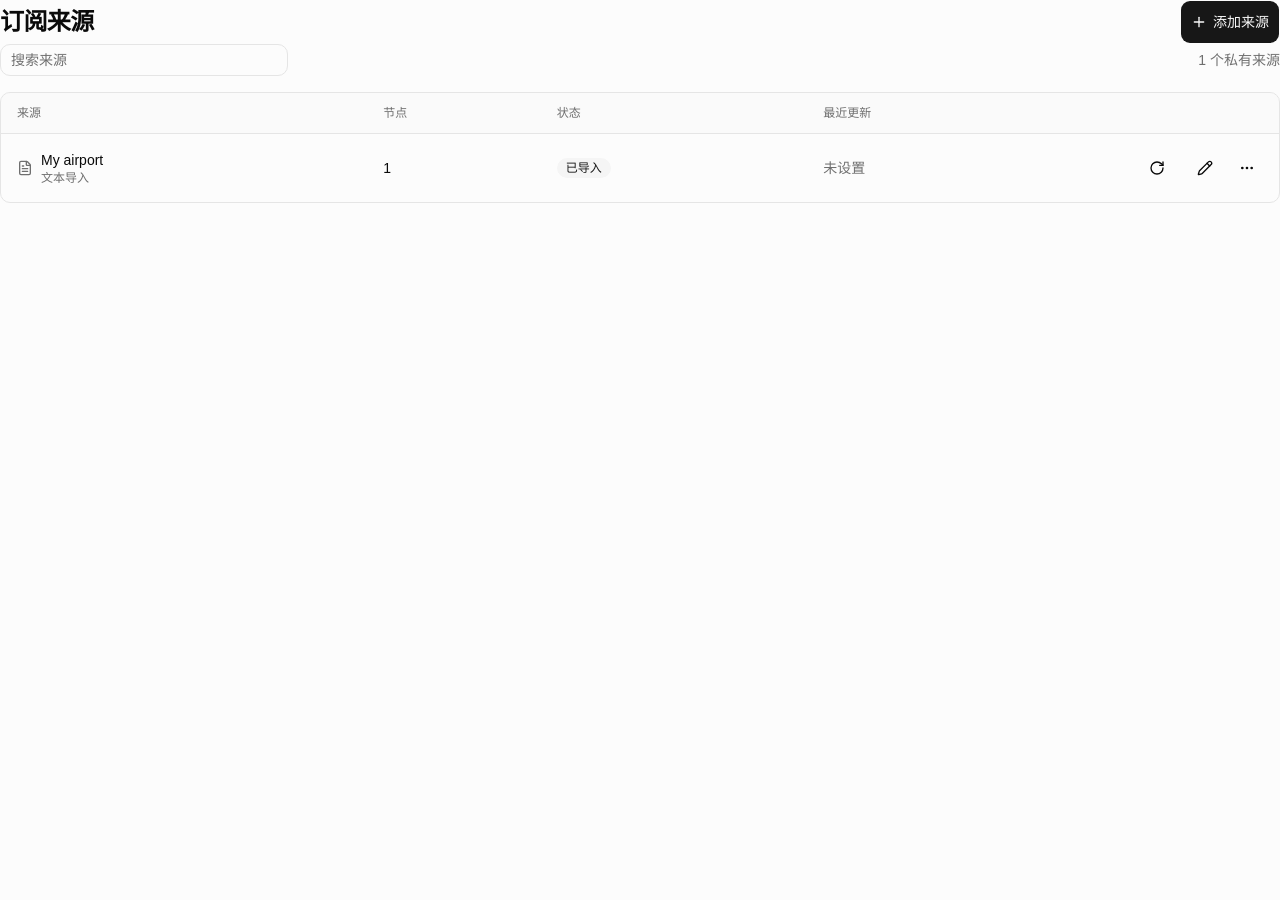
Test case: offers optional change details and applies the exact manual update without a forced completion step
Click the button named "刷新 My airport" at {"x": 1157, "y": 168}, box [1135, 146, 1179, 190]
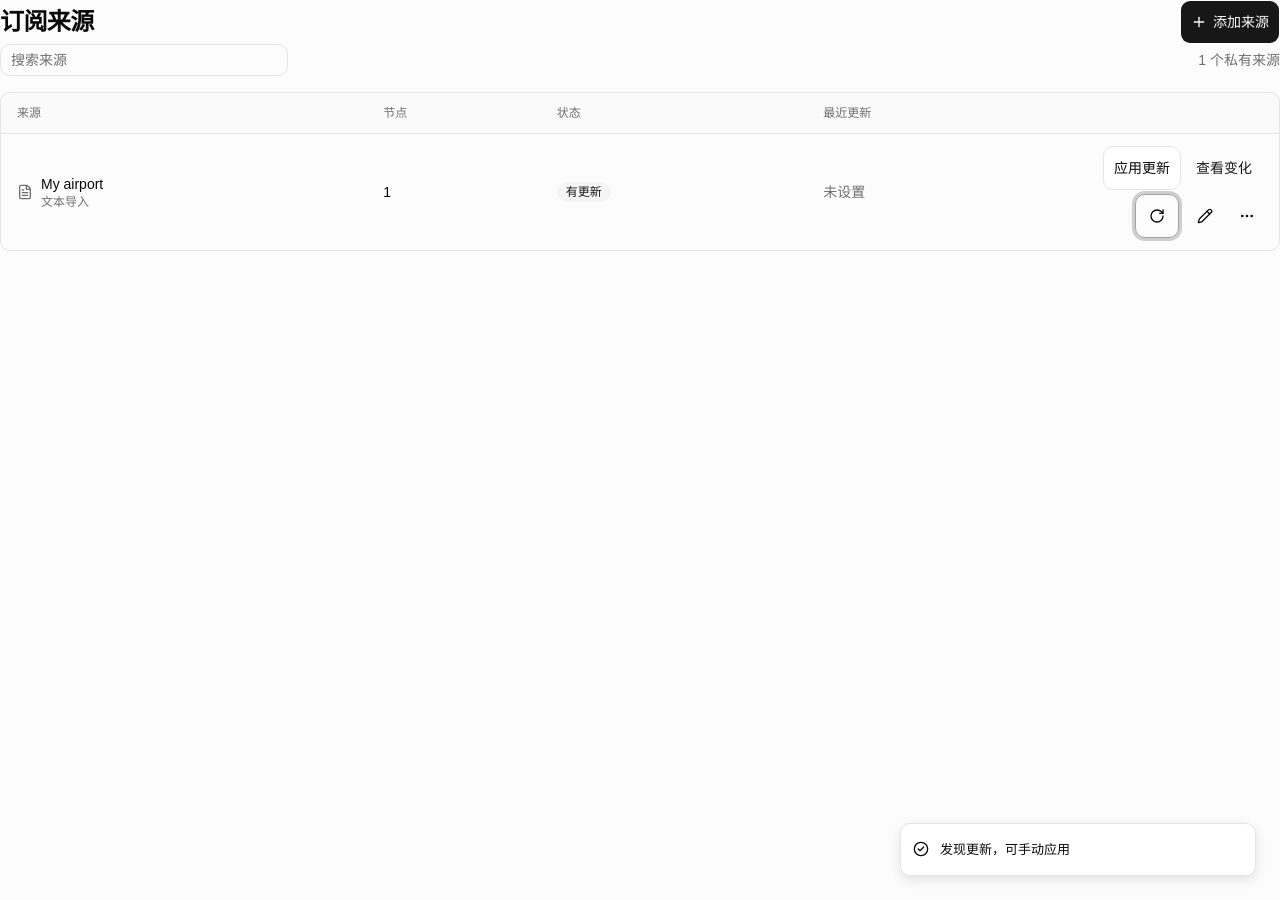
Click the button "查看变化" at {"x": 1224, "y": 168}, box [1185, 146, 1263, 190]
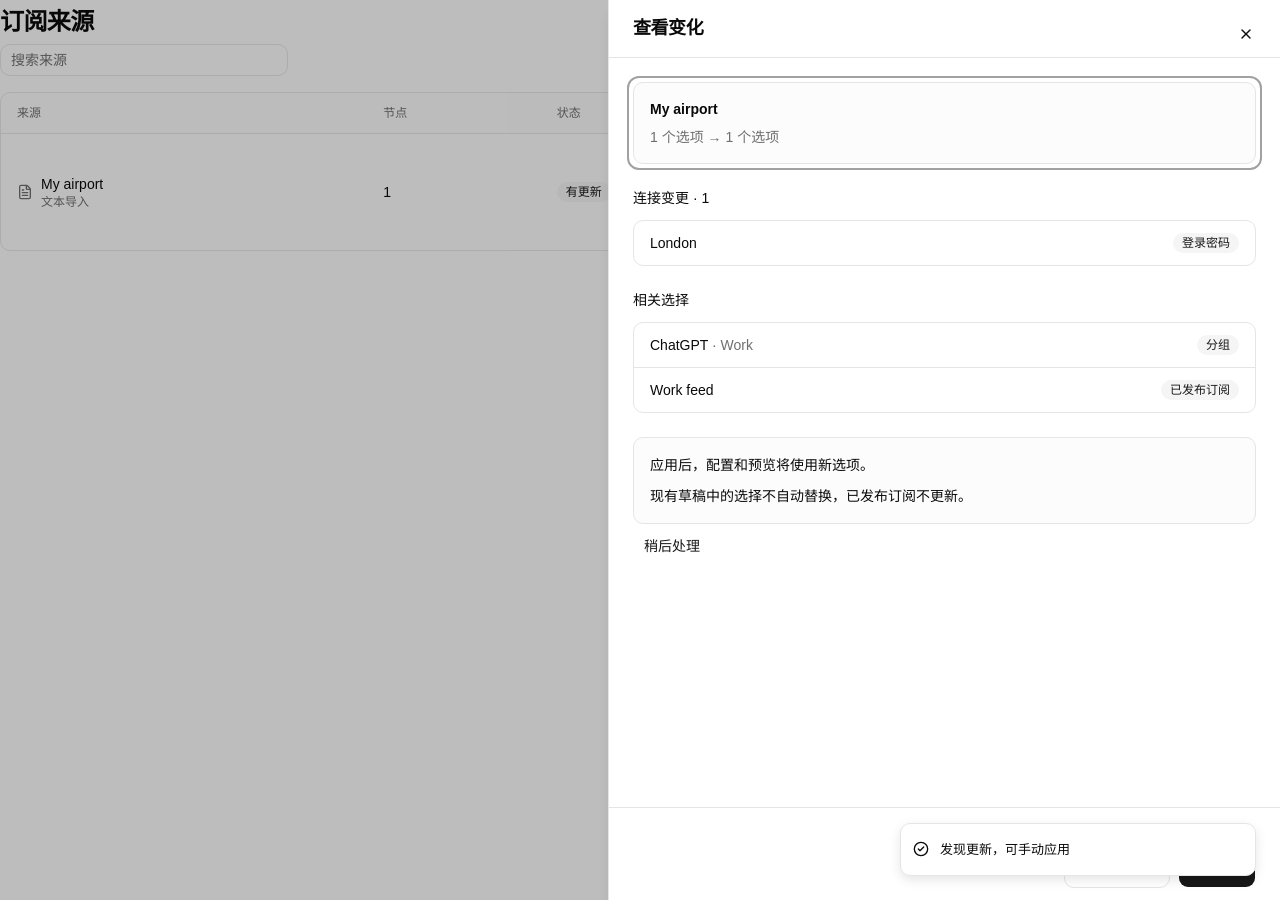
Expected: the heading "查看变化" is shown, [633, 18, 703, 38]
Expected: the heading "连接变更 · 1" is shown, [633, 190, 709, 206]
Expected: the text "登录密码" is shown, [1173, 233, 1239, 253]
Click the button "应用更新" at {"x": 1217, "y": 866}, box [1178, 844, 1256, 888]
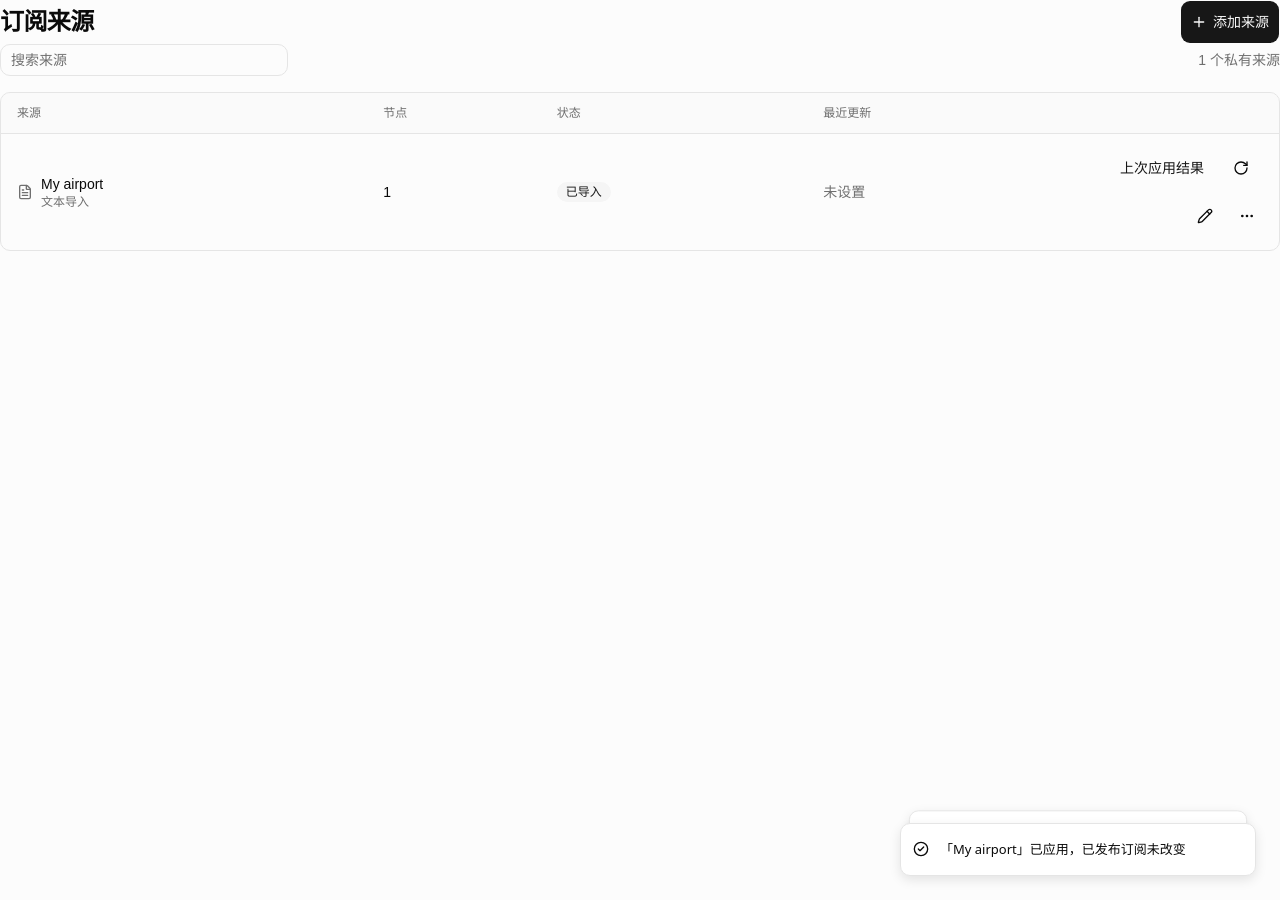
Expected: the dialog is gone
Expected: the text "「My airport」已应用，已发布订阅未改变" is shown, [940, 840, 1186, 859]
Click the button with aria-label "查看上次应用结果 My airport" at {"x": 1162, "y": 168}, box [1109, 146, 1215, 190]
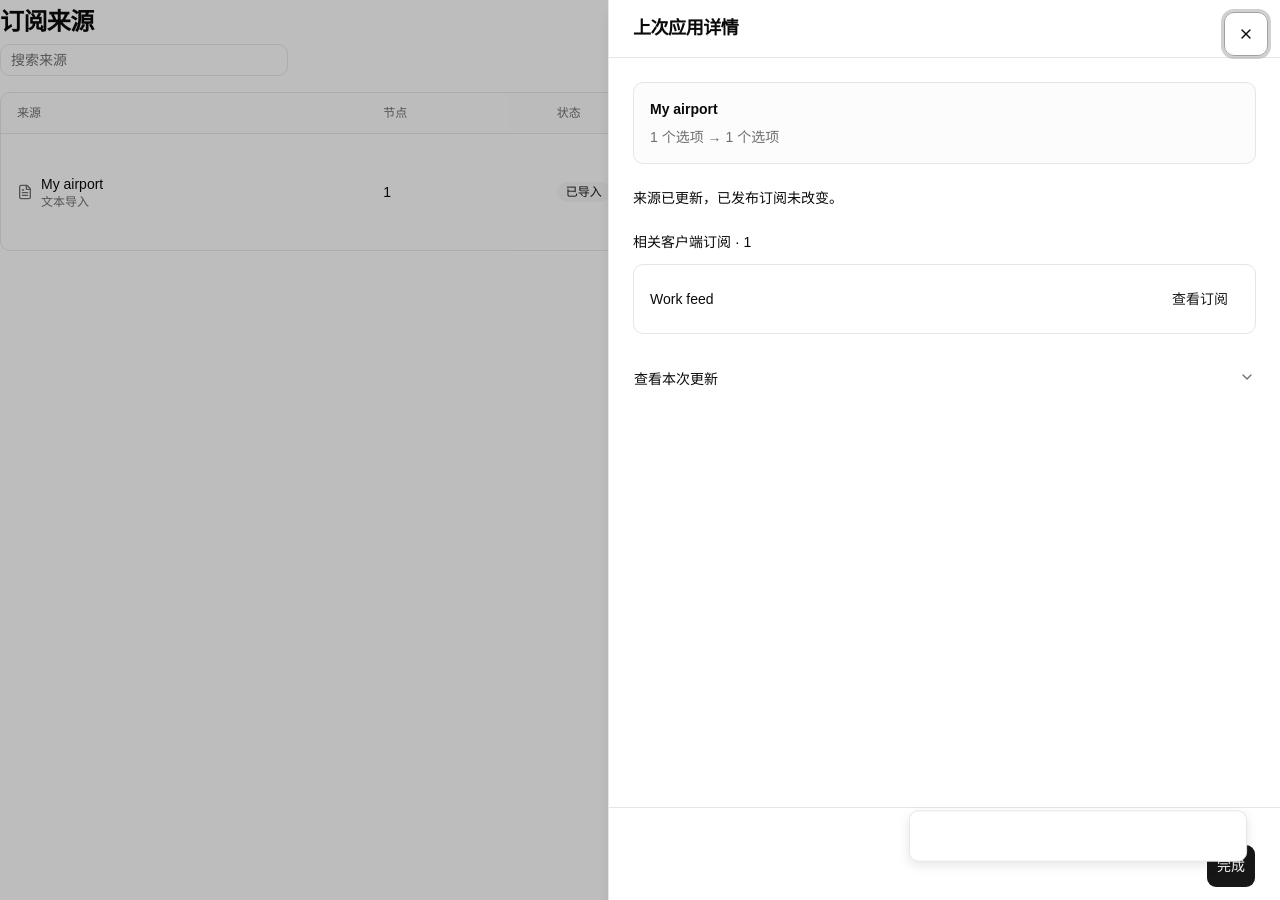
Expected: the button "应用更新" is not shown
Expected: the text "来源已更新，已发布订阅未改变。" is shown, [633, 190, 843, 206]
Click the button "完成" at {"x": 1231, "y": 866}, box [1206, 844, 1256, 888]
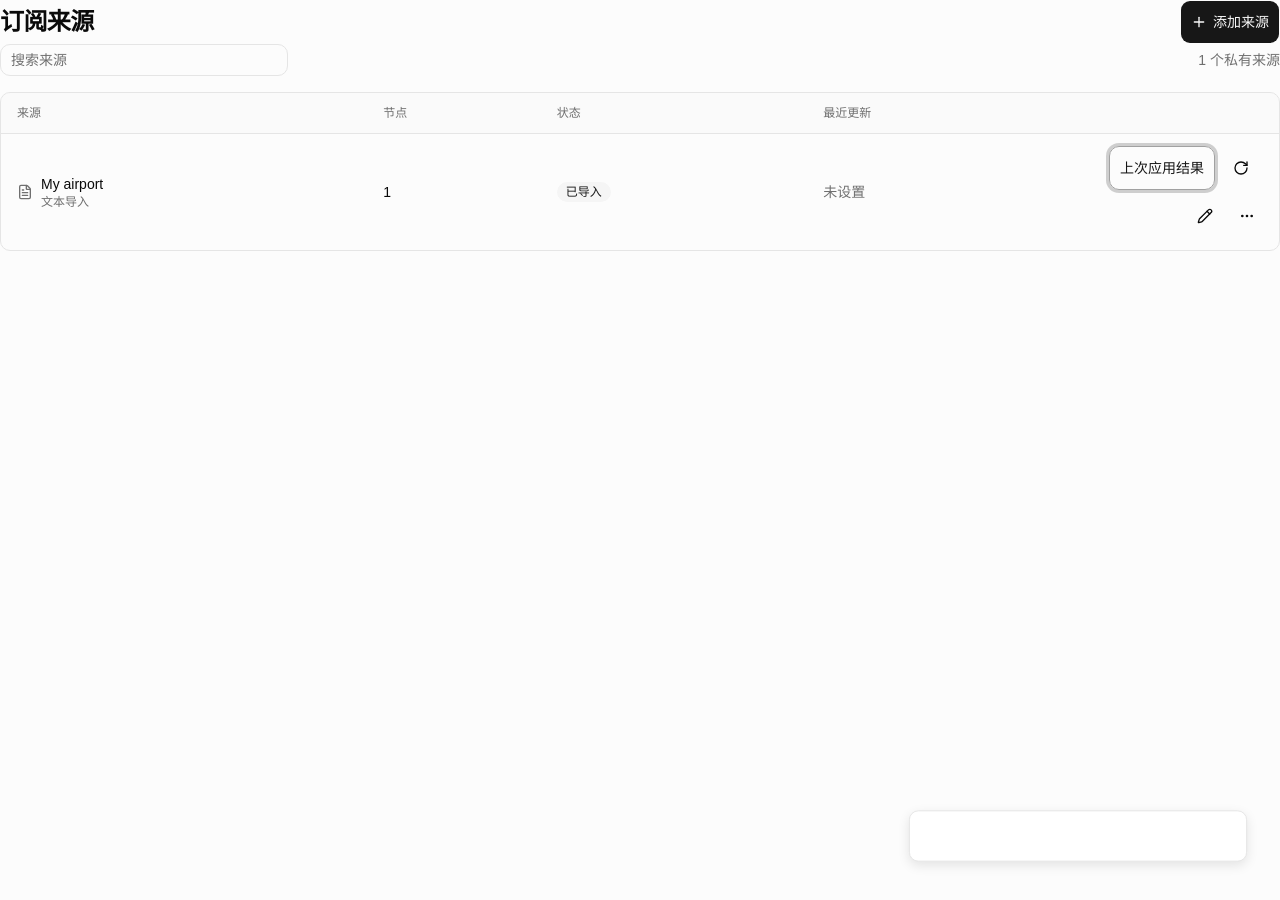
Expected: the dialog is gone
Click the button with aria-label "查看上次应用结果 My airport" at {"x": 1162, "y": 168}, box [1109, 146, 1215, 190]
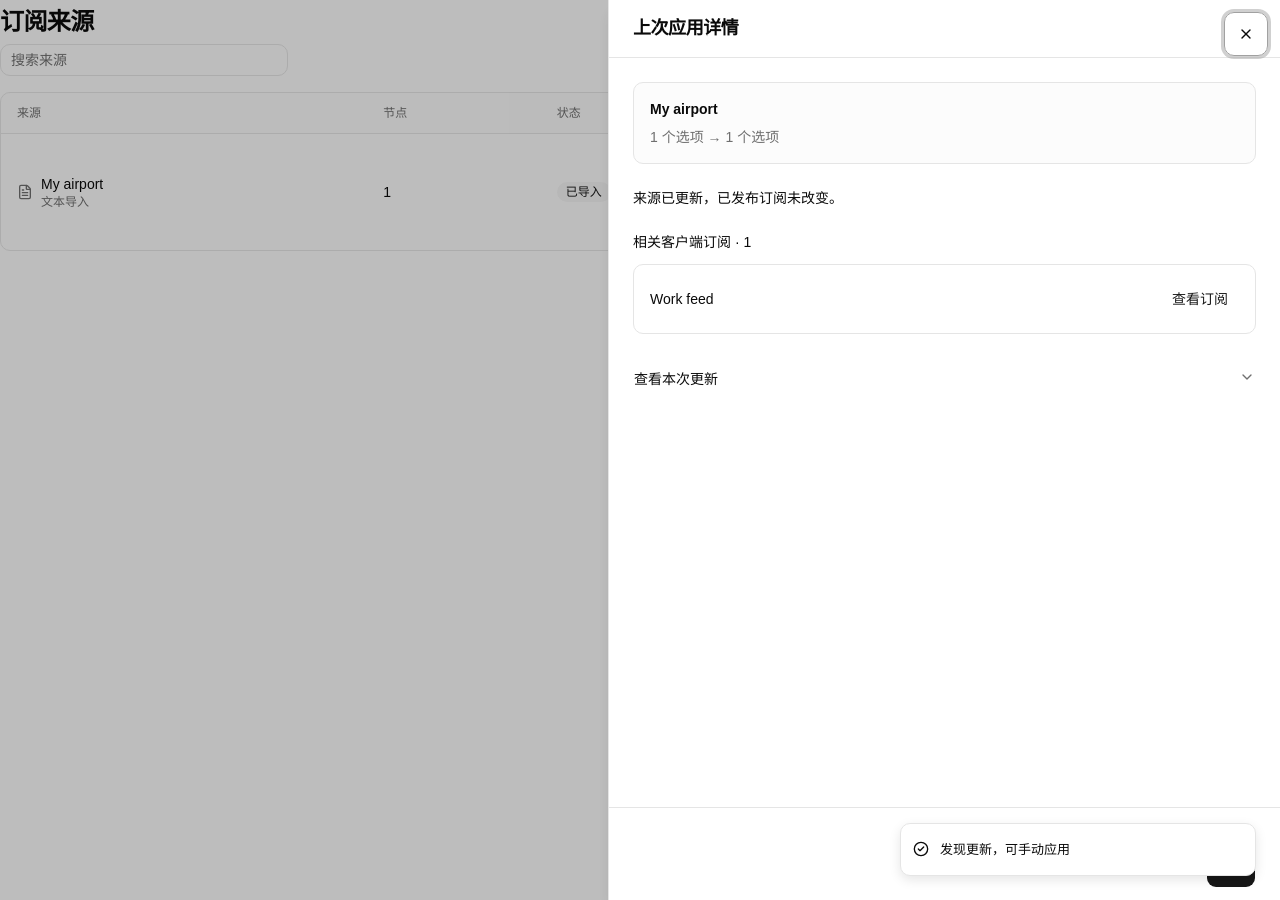
Expected: the dialog "上次应用详情" is shown, [608, 0, 1279, 899]
